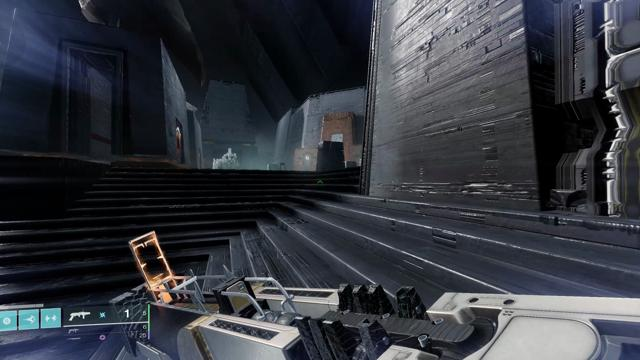pyramid: (176, 127, 181, 154)
